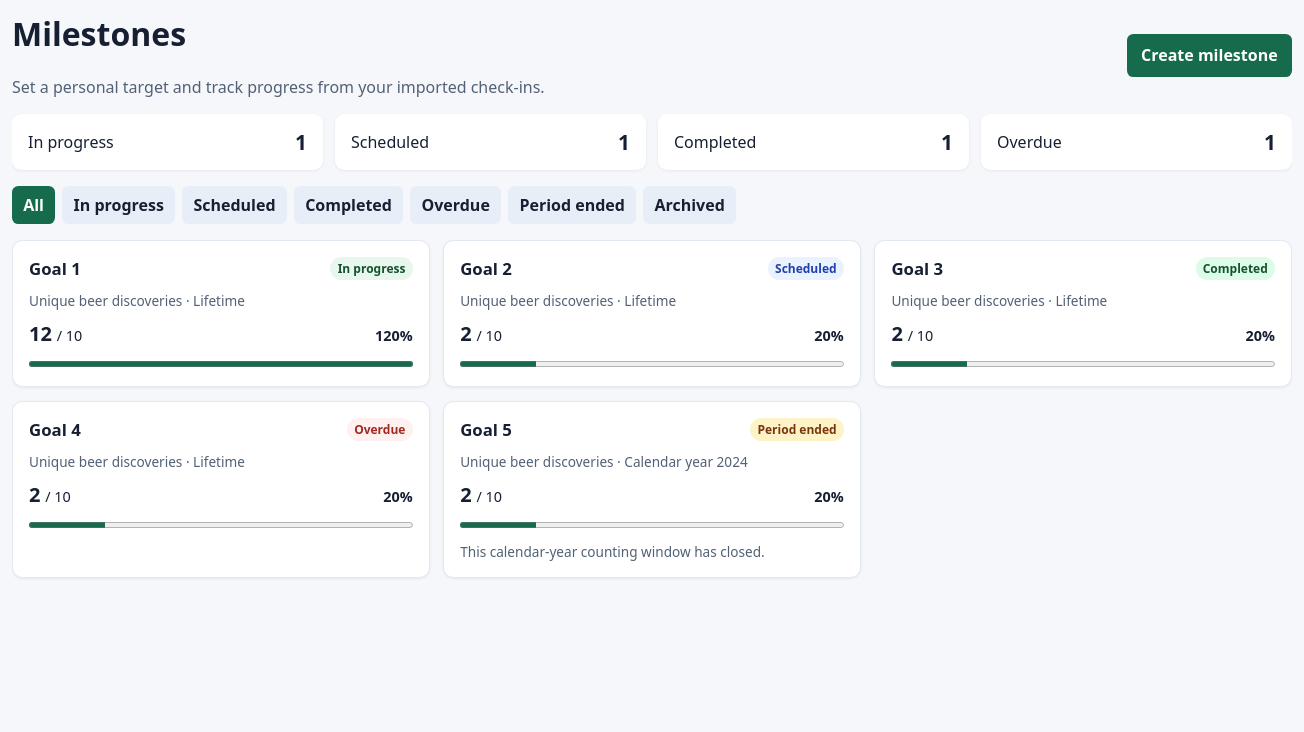
overview renders status counts, filters, period-ended status, and clamps visual progress
Expected: the heading "Goal 1" is shown, [29, 257, 81, 280]
Expected: the text "120%" is shown, [375, 326, 413, 345]
Step 1. Click the button "Completed" → {"x": 348, "y": 205}, box [294, 186, 403, 224]
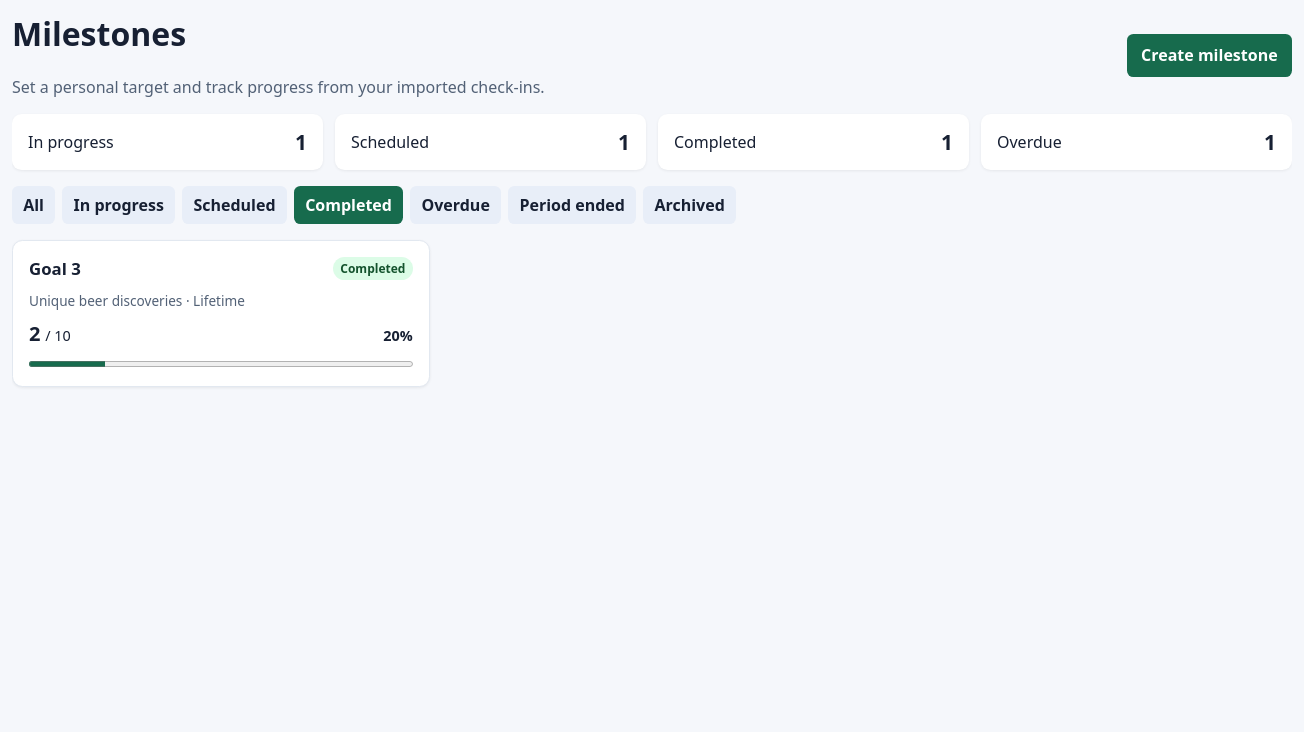
Expected: the heading "Goal 3" is shown, [29, 257, 81, 280]
Result: the link "Goal 1" is gone
